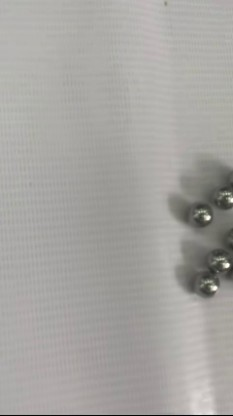ironball: (185, 201, 215, 226), (205, 247, 232, 274), (195, 272, 218, 295), (213, 185, 231, 210), (221, 223, 231, 250)
